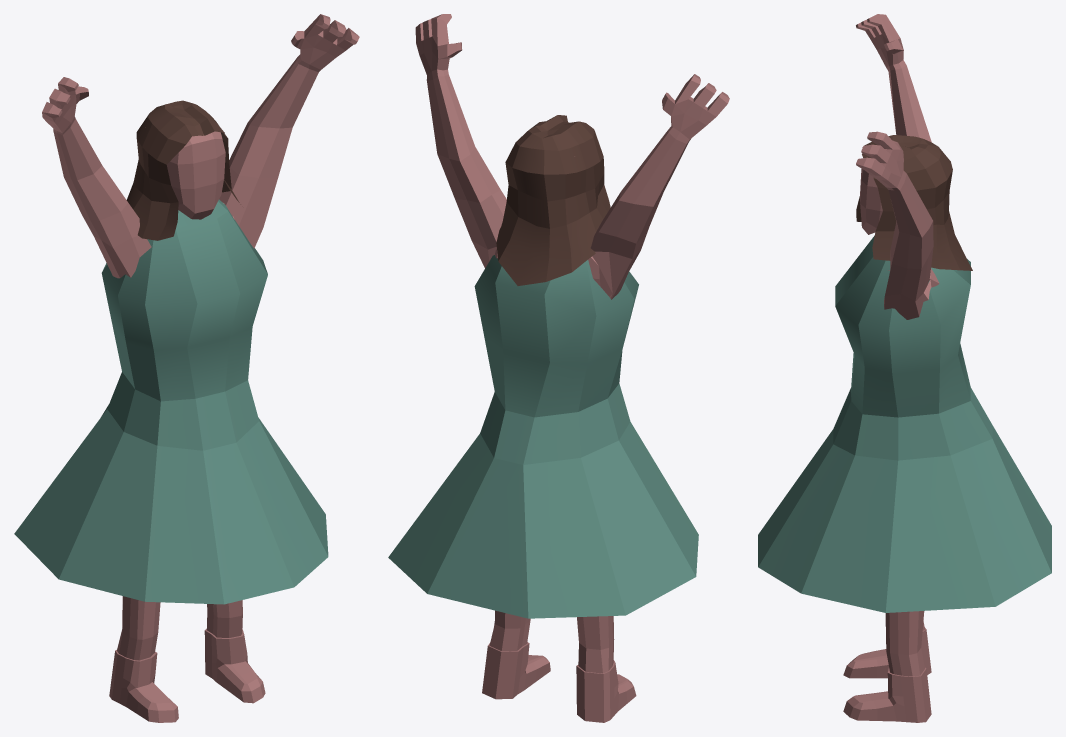
The model's file is Fan_1.fbx.
The picture shows the model from 3 angles, left to right: view 1: azimuth 30°, elevation 25°; view 2: azimuth 150°, elevation 25°; view 3: azimuth 270°, elevation 25°; orthographic projection. The views are drawn at different scales.
Visible parts, largest first — view 1: Fan_1; view 2: Fan_1; view 3: Fan_1.
Boxes of the visible parts, x1,y1,x2,y2 form: Fan_1: [14, 14, 359, 722]; Fan_1: [388, 14, 729, 722]; Fan_1: [758, 14, 1051, 722].
Size of the model in its own units: 79.27 by 156 by 67.13.
